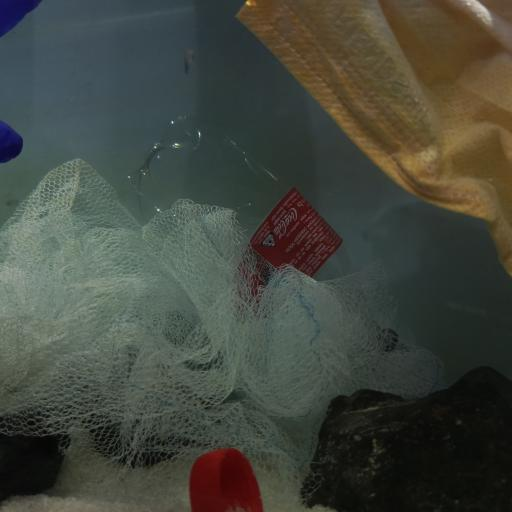bottle_cap: (189, 447, 264, 512)
glove: (0, 0, 40, 161)
mask: (232, 0, 512, 278)
net: (0, 158, 448, 488)
plastic_bottle: (123, 115, 405, 355)
